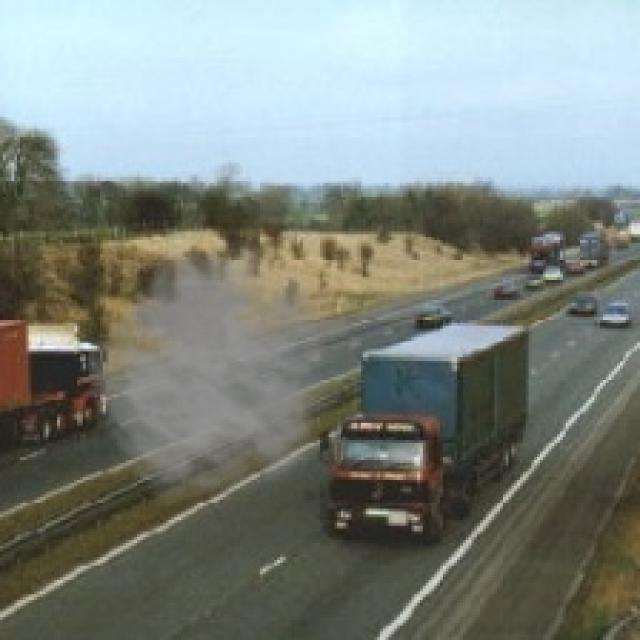Smoke: (86, 225, 363, 506)
